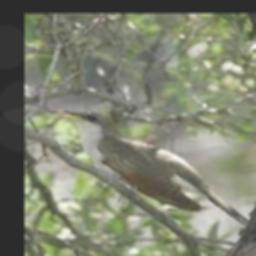Cuckoo: (52, 110, 249, 226)
